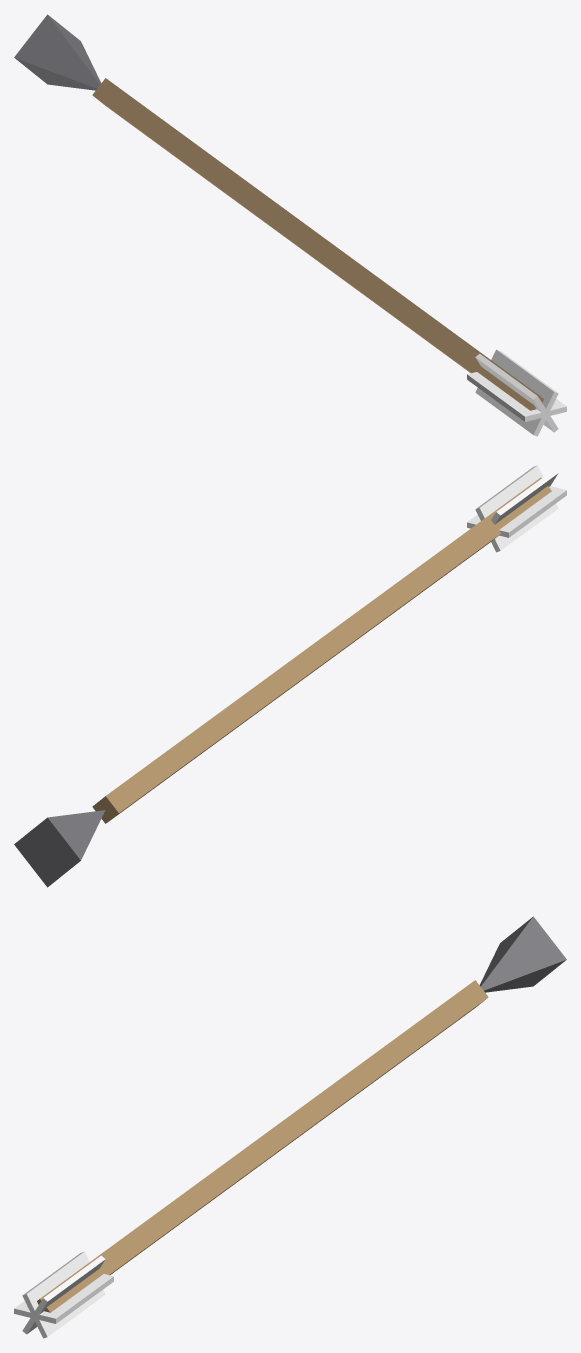
File: arrow.glb
3 views of the same model, one above another, from view 1: azimuth 30°, elevation 25°; view 2: azimuth 150°, elevation 25°; view 3: azimuth 330°, elevation 25° (orthographic).
Parts seen in each view (by area): view 1: Arrow; view 2: Arrow; view 3: Arrow.
Boxes of the visible parts, x1,y1,x2,y2 form: Arrow: [14, 14, 566, 436]; Arrow: [14, 465, 566, 887]; Arrow: [14, 916, 566, 1338].
Bounding box in the file's own units: 0.04 × 0.04 × 0.515.
